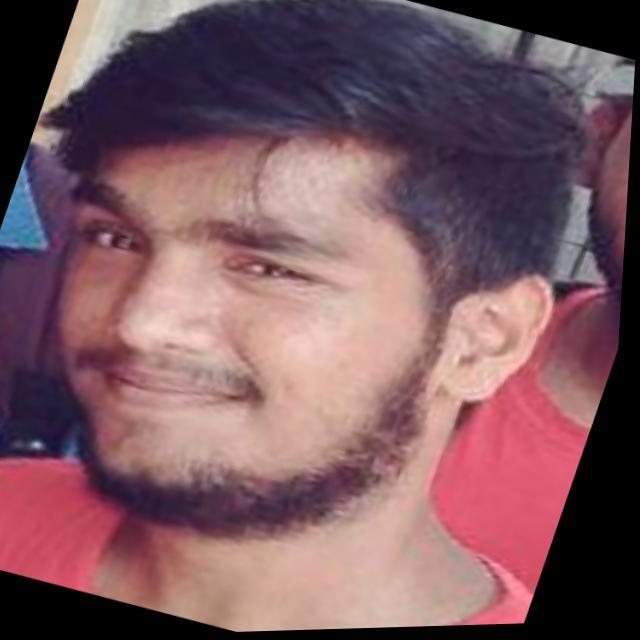Nonhelmet: (27, 1, 586, 543)
